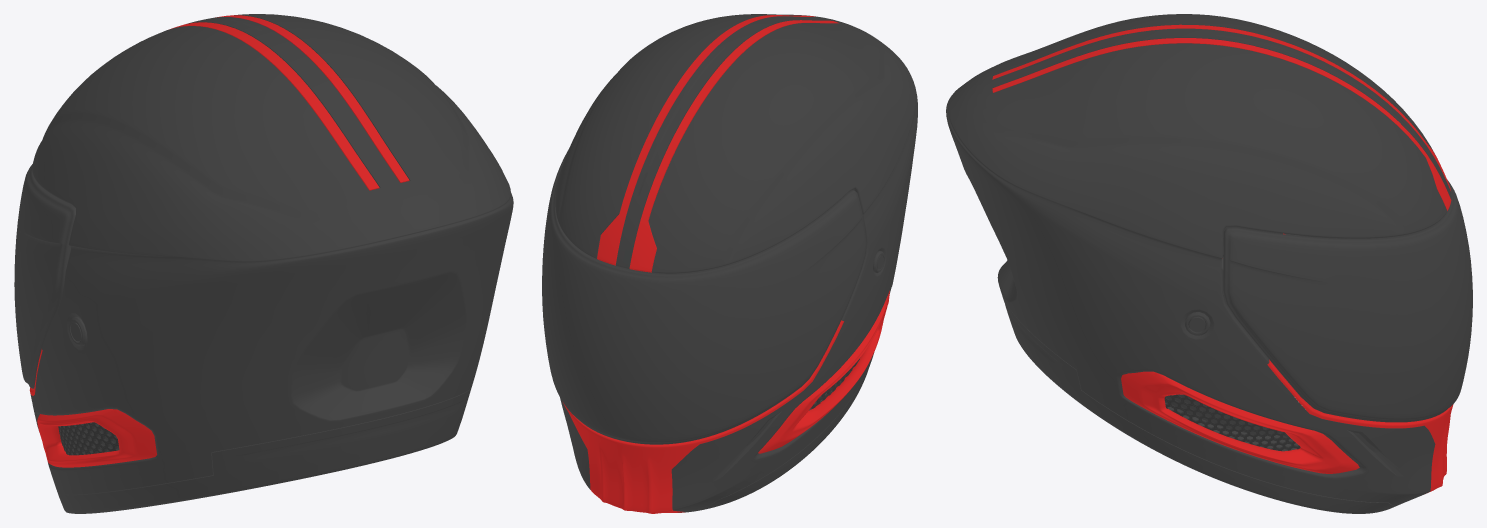
Rendered from helmet.glb.
3 views of the same model, side by side, from view 1: azimuth 30°, elevation 25°; view 2: azimuth 150°, elevation 25°; view 3: azimuth 270°, elevation 25° (orthographic). The views are drawn at different scales.
Parts seen in each view (by area): view 1: Body_LP_Material_01_0, Glass_LP_Material_01_0, TopStripes_LP_Material_01_0, PatternStripes_LP_Material_01_0, Pattern_LP_Material_01_0; view 2: Body_LP_Material_01_0, Glass_LP_Material_01_0, BottomStriper_LP_Material_01_0, TopStripes_LP_Material_01_0, PatternStripes_LP_Material_01_0; view 3: Body_LP_Material_01_0, Glass_LP_Material_01_0, PatternStripes_LP_Material_01_0, TopStripes_LP_Material_01_0, BottomStriper_LP_Material_01_0, Pattern_LP_Material_01_0.
Part boxes in pixels (bbox=[...]): Body_LP_Material_01_0: bbox=[30, 14, 513, 513]; Glass_LP_Material_01_0: bbox=[14, 164, 75, 388]; TopStripes_LP_Material_01_0: bbox=[170, 15, 409, 190]; PatternStripes_LP_Material_01_0: bbox=[37, 409, 156, 467]; Pattern_LP_Material_01_0: bbox=[58, 422, 119, 455]; Body_LP_Material_01_0: bbox=[555, 14, 917, 512]; Glass_LP_Material_01_0: bbox=[542, 149, 866, 444]; BottomStriper_LP_Material_01_0: bbox=[563, 320, 843, 513]; TopStripes_LP_Material_01_0: bbox=[597, 15, 838, 272]; PatternStripes_LP_Material_01_0: bbox=[758, 290, 889, 453]; Body_LP_Material_01_0: bbox=[946, 14, 1451, 513]; Glass_LP_Material_01_0: bbox=[1223, 179, 1472, 422]; PatternStripes_LP_Material_01_0: bbox=[1121, 371, 1359, 473]; TopStripes_LP_Material_01_0: bbox=[992, 24, 1451, 210]; BottomStriper_LP_Material_01_0: bbox=[1267, 233, 1453, 492]; Pattern_LP_Material_01_0: bbox=[1164, 255, 1300, 451].
Bounding box in the file's own units: 0.7268 × 0.9527 × 0.9968.
Materials: 1 (1 with a texture image).
